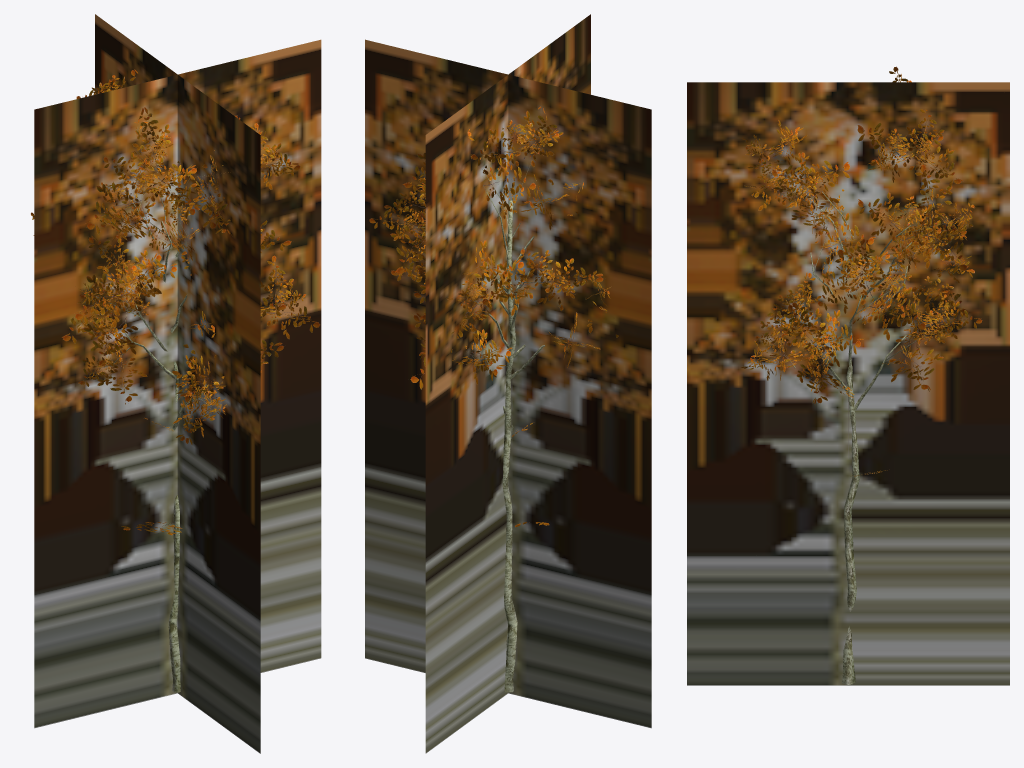
The model's file is Tree-Beech0C.fbx.
The picture shows the model from 3 angles, left to right: view 1: azimuth 30°, elevation 25°; view 2: azimuth 150°, elevation 25°; view 3: azimuth 270°, elevation 25°; orthographic projection. The views are drawn at different scales.
Visible parts, largest first — view 1: Billboard-BeechC, Tree-Beech0C_LOD0; view 2: Billboard-BeechC, Tree-Beech0C_LOD0; view 3: Billboard-BeechC, Tree-Beech0C_LOD0.
Boxes of the visible parts, <box> form: Billboard-BeechC: <box>34,14,321,753</box>; Tree-Beech0C_LOD0: <box>31,69,320,692</box>; Billboard-BeechC: <box>365,14,651,753</box>; Tree-Beech0C_LOD0: <box>369,106,618,692</box>; Billboard-BeechC: <box>687,82,1009,685</box>; Tree-Beech0C_LOD0: <box>740,66,982,684</box>.
Size of what is drawn, in the model's own units: 1286 by 2652 by 1286.
